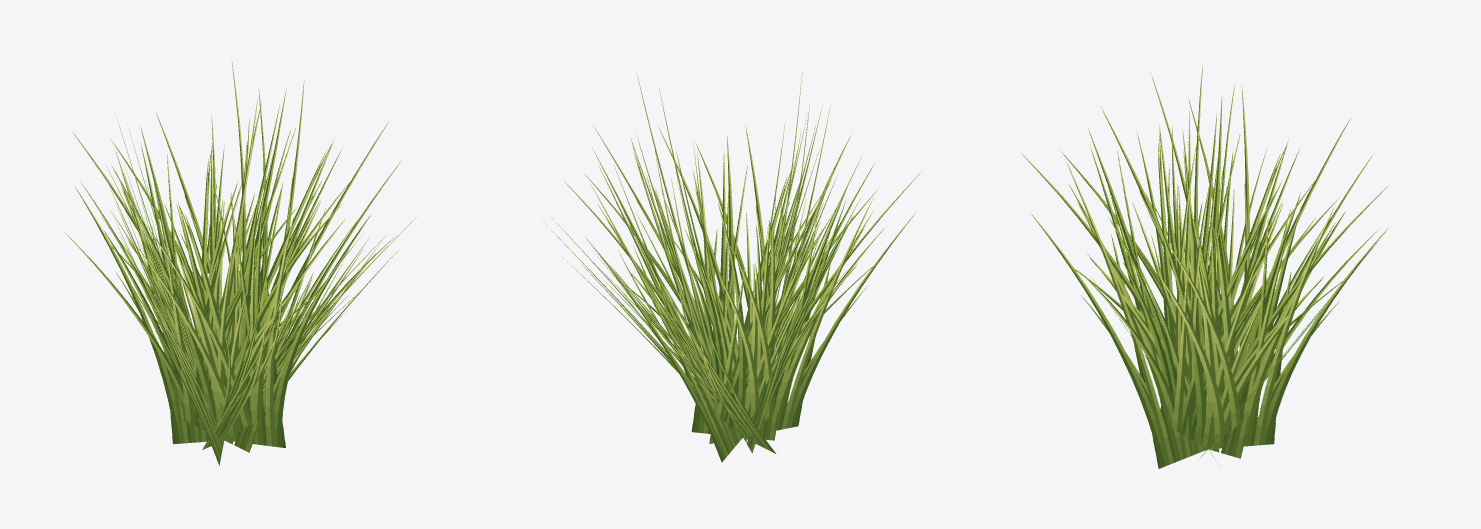
Rendered from grass_tall_a.glb.
3 views of the same model, side by side, from view 1: azimuth 30°, elevation 25°; view 2: azimuth 150°, elevation 25°; view 3: azimuth 270°, elevation 25° (orthographic). The views are drawn at different scales.
Visible parts, largest first — view 1: grass_tall_a; view 2: grass_tall_a; view 3: grass_tall_a.
Part boxes in pixels (bbox=[...]): grass_tall_a: bbox=[64, 58, 416, 465]; grass_tall_a: bbox=[542, 69, 921, 462]; grass_tall_a: bbox=[1020, 65, 1390, 468].
Bounding box in the file's own units: 0.6573 × 0.5641 × 0.7115.
Materials: 1 (1 with a texture image).
